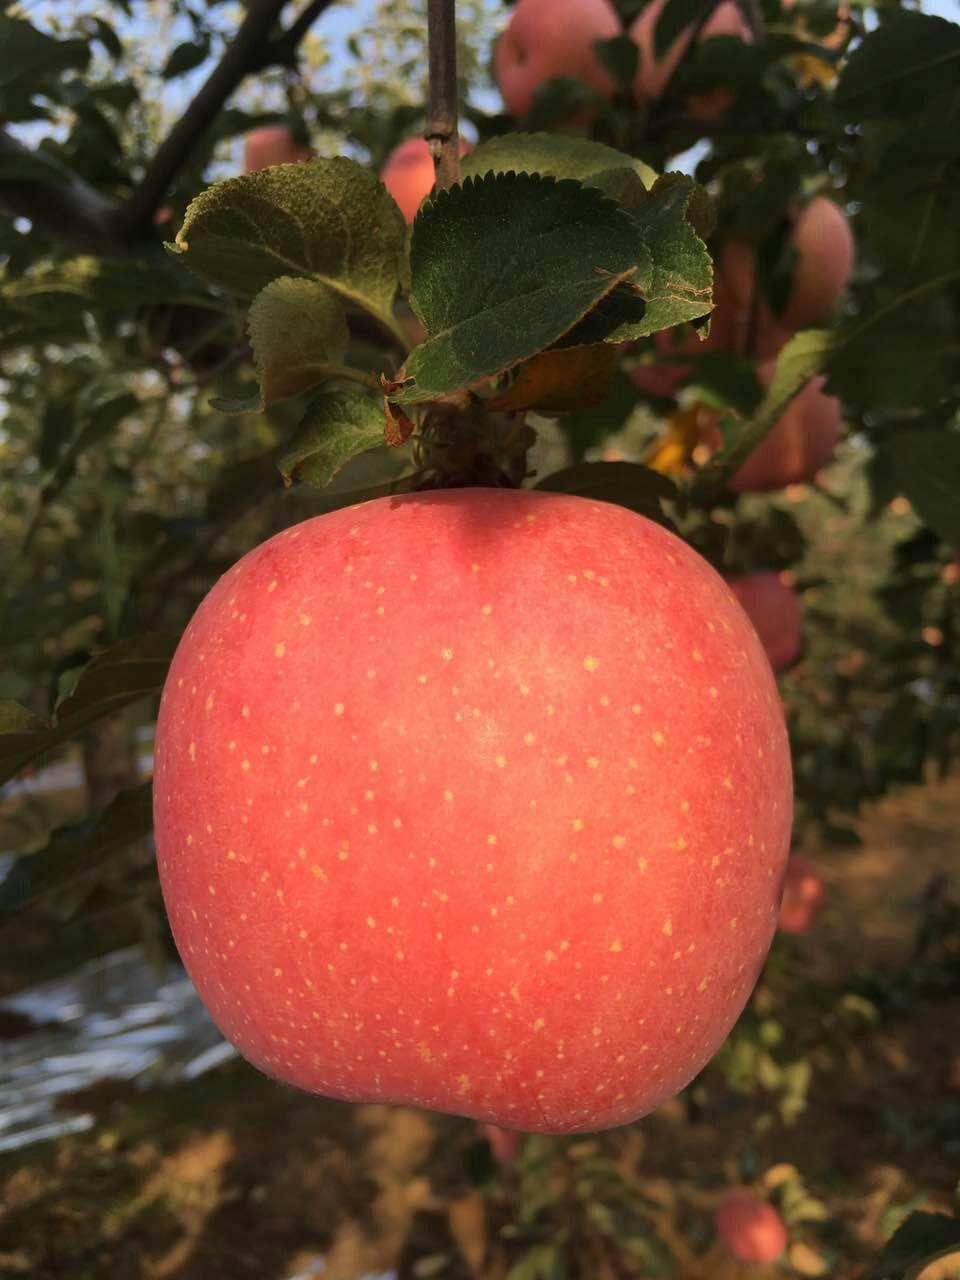apple: (147, 484, 795, 1131)
